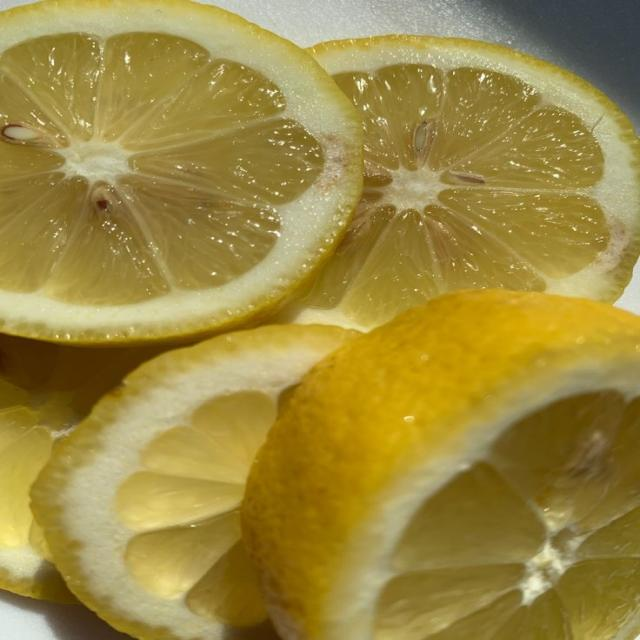lemon: (244, 290, 639, 639), (0, 0, 361, 343), (289, 36, 639, 328), (32, 326, 352, 639), (0, 336, 158, 602)
